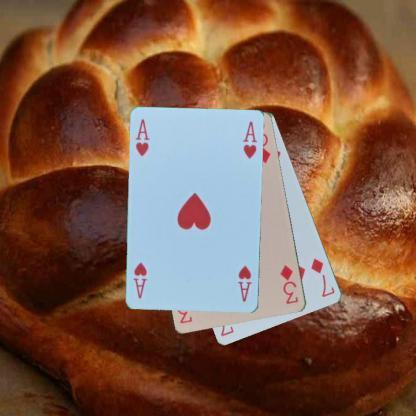3d: (277, 262, 300, 306)
7d: (308, 255, 336, 299)
Ah: (235, 262, 254, 304), (132, 116, 151, 158)
